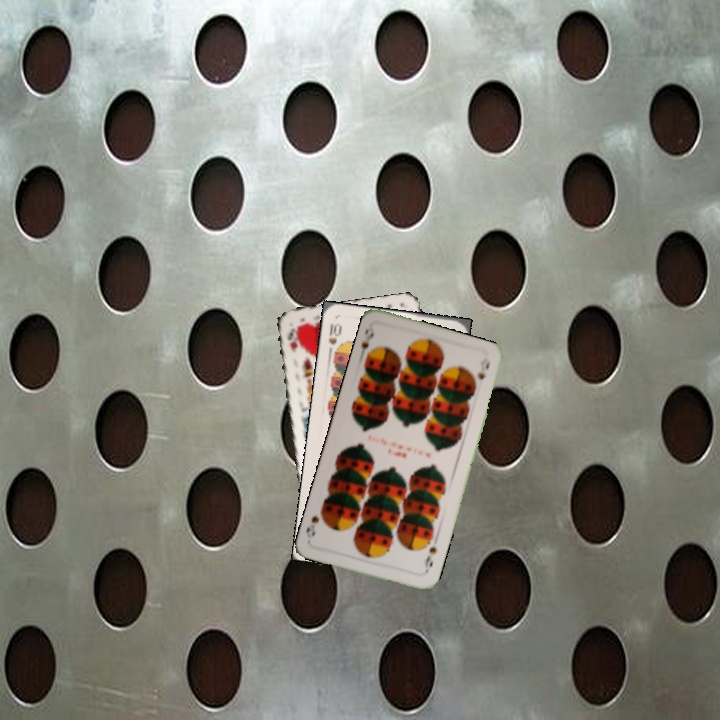HK: (283, 324, 300, 355)
S10: (324, 319, 344, 358)
S9: (355, 323, 377, 362), (420, 541, 439, 576)
